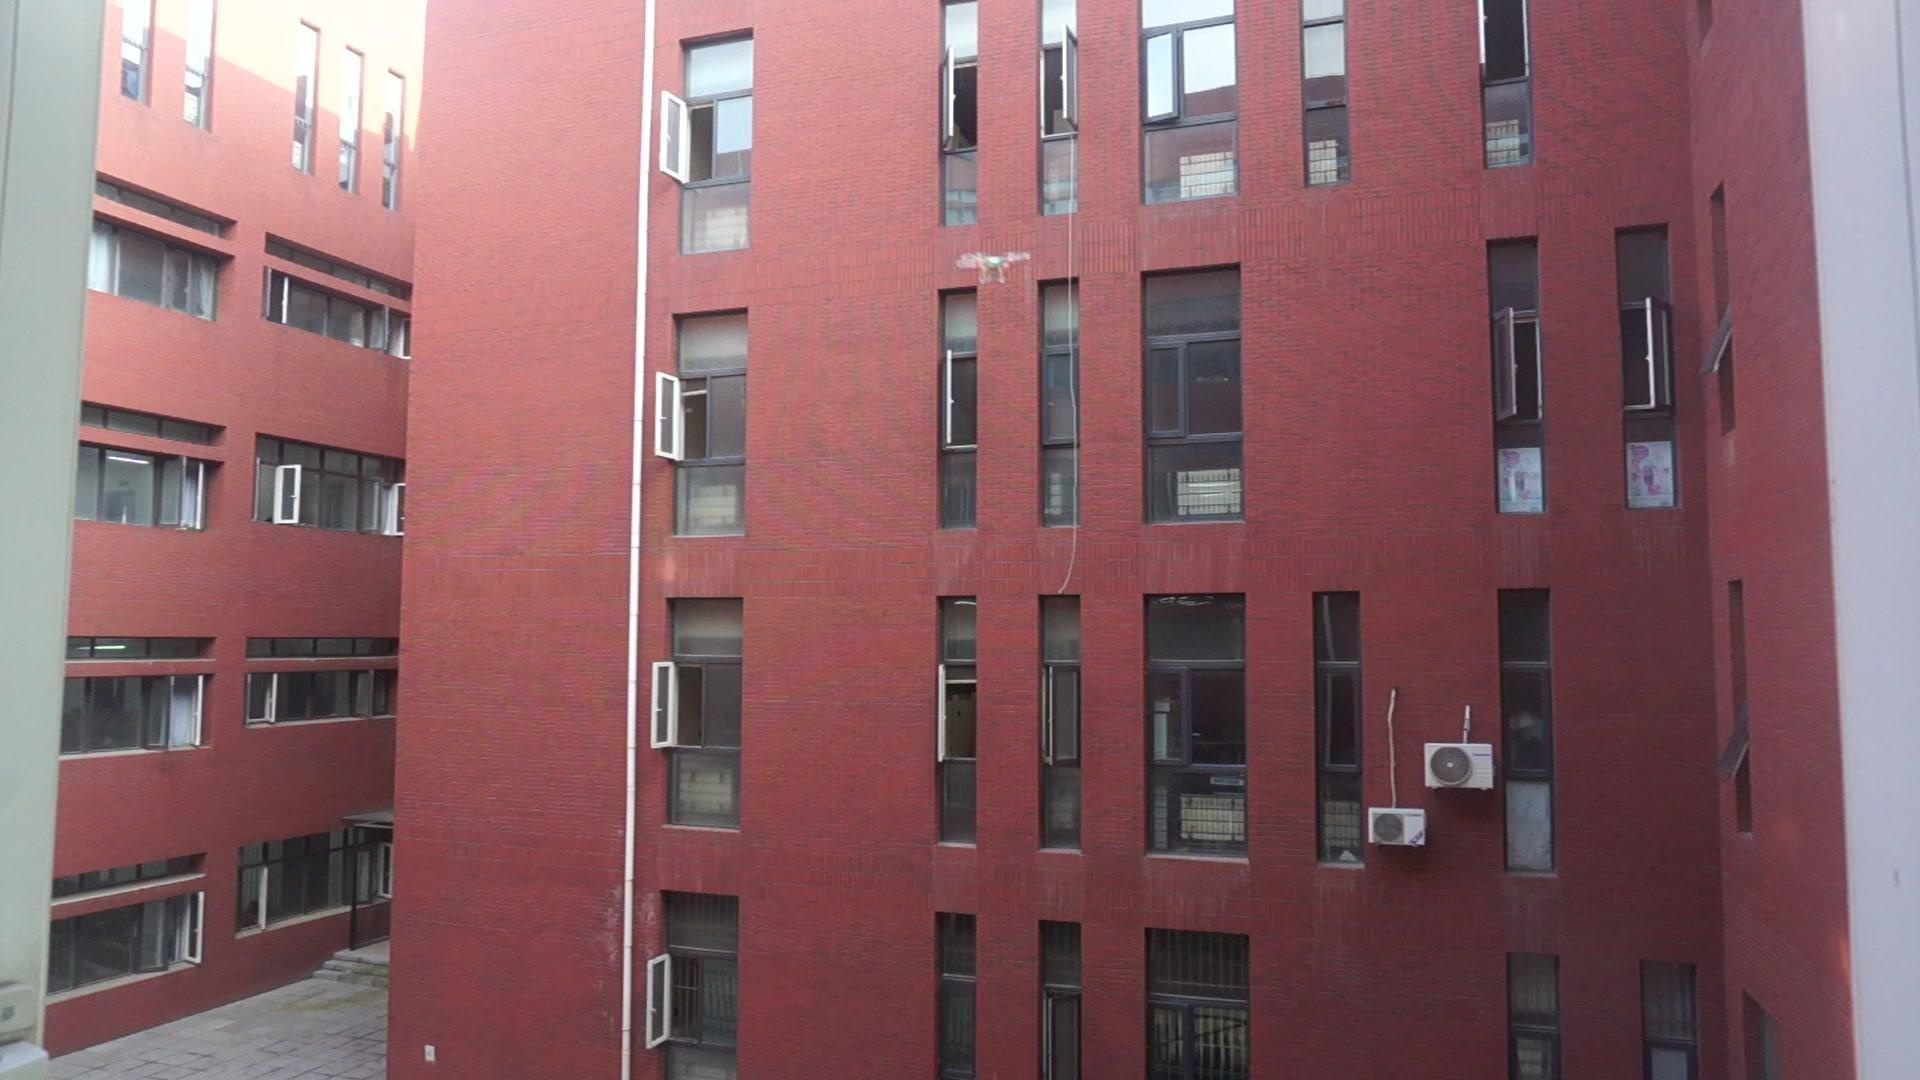UAV: (955, 253, 1033, 285)
